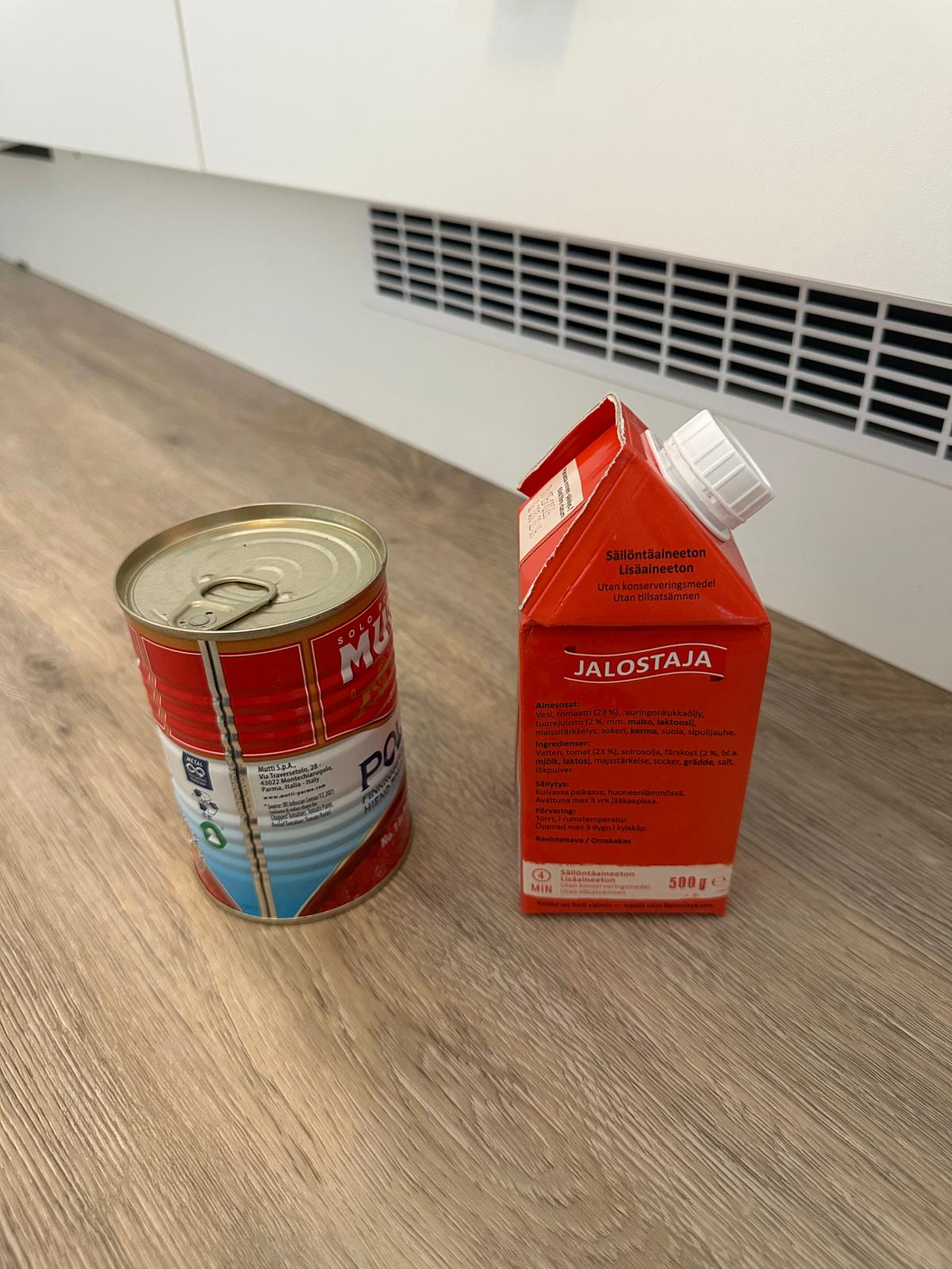Dryckeskartong: (517, 393, 775, 916)
Konservburk: (114, 501, 416, 924)
